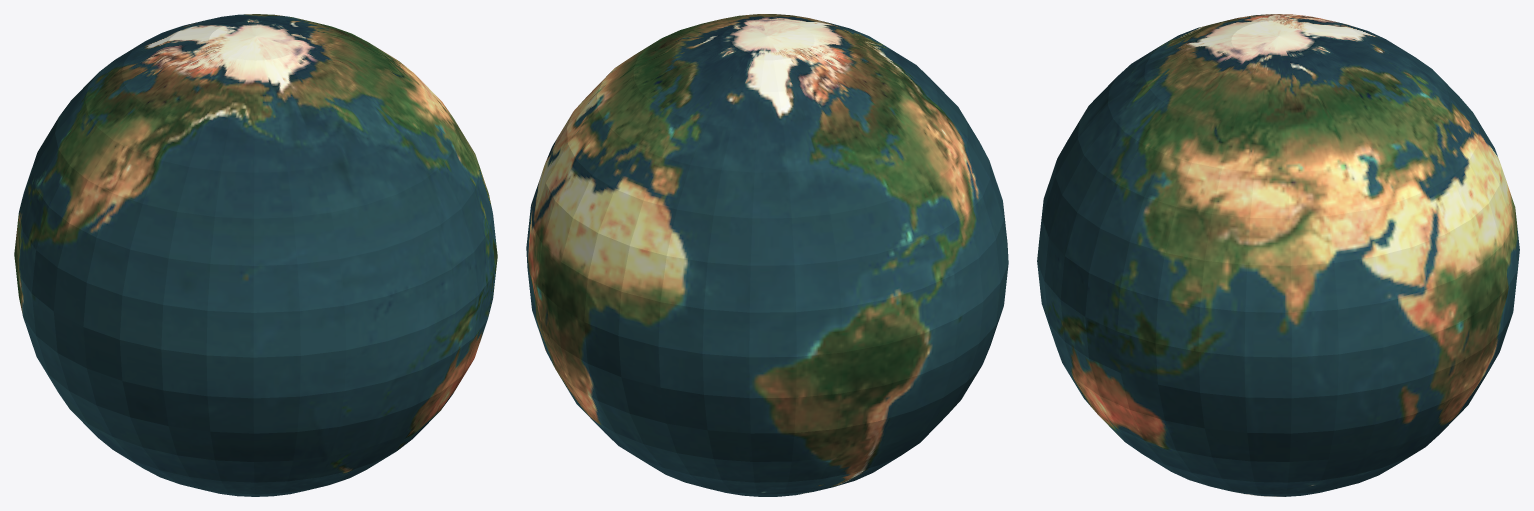
File: Earth.gltf
3 renders of one model, left to right at view 1: azimuth 30°, elevation 25°; view 2: azimuth 150°, elevation 25°; view 3: azimuth 270°, elevation 25°, orthographic.
Parts seen in each view (by area): view 1: Earth; view 2: Earth; view 3: Earth.
Part boxes in pixels (x1,y1,x2,y2): Earth: (14, 14, 497, 496); Earth: (526, 14, 1008, 496); Earth: (1037, 14, 1519, 496).
Bounding box in the file's own units: 2 × 2 × 2.
Materials: 1 (1 with a texture image).
